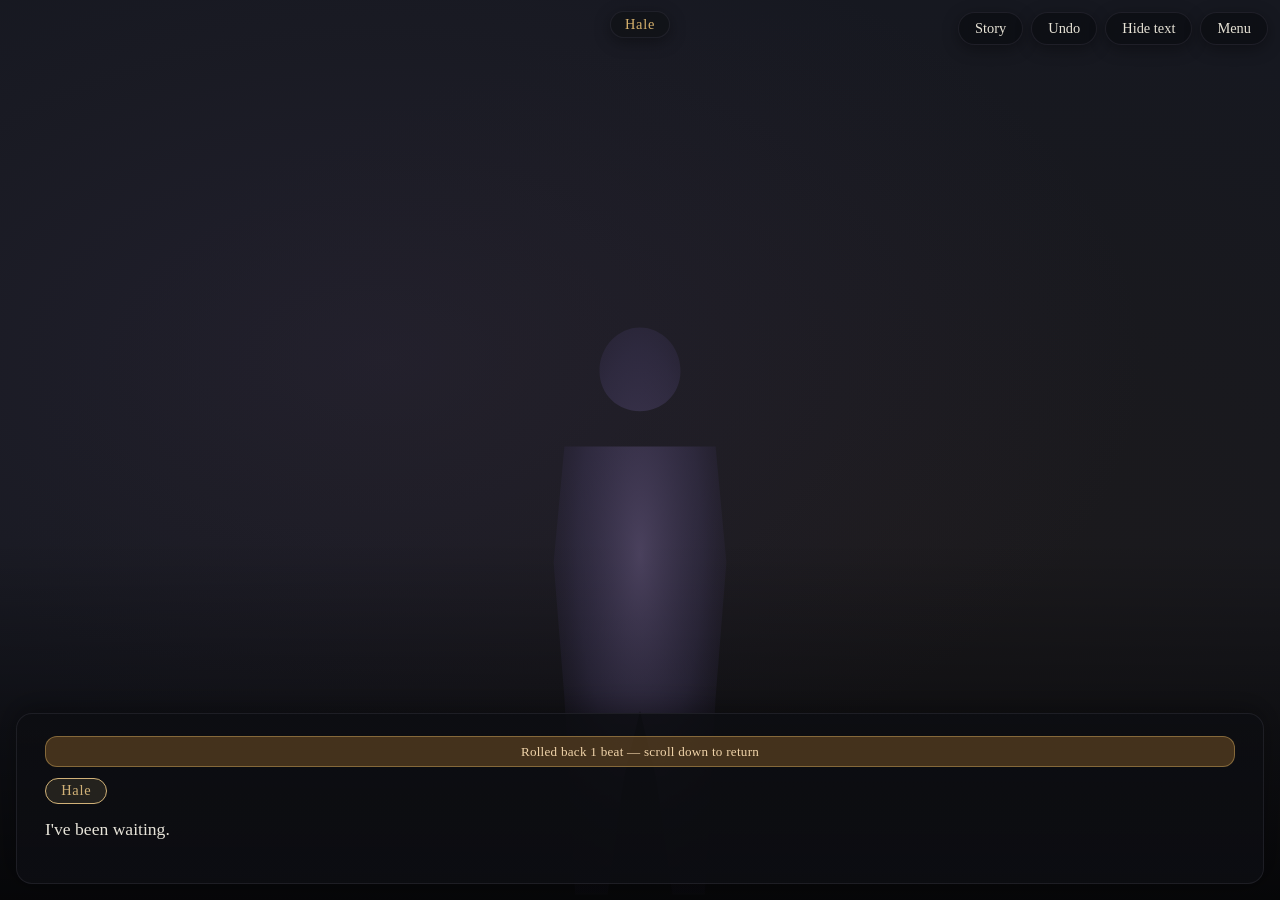
Test: MainView wheel rollback › clicking the stage during rollback exits to the live beat (no advance)
Expected: the message "Rolled back 1 beat — scroll down to return" is shown, x1=45 y1=736 x2=1235 y2=767
Step 1. Click the element with class "stage" → (640,455), box x1=505 y1=11 x2=775 y2=899
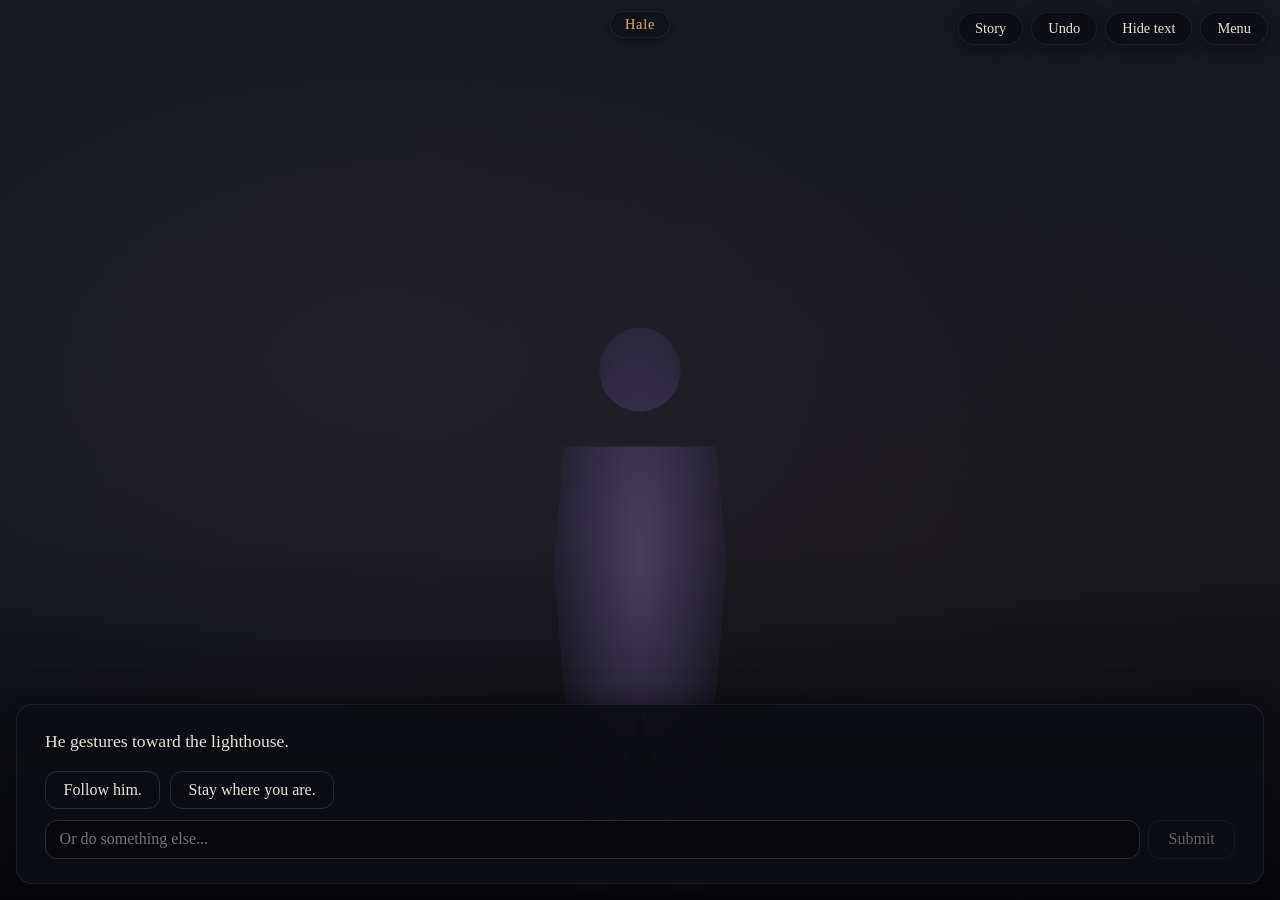
Result: the message with test id "rollback-banner" is gone
